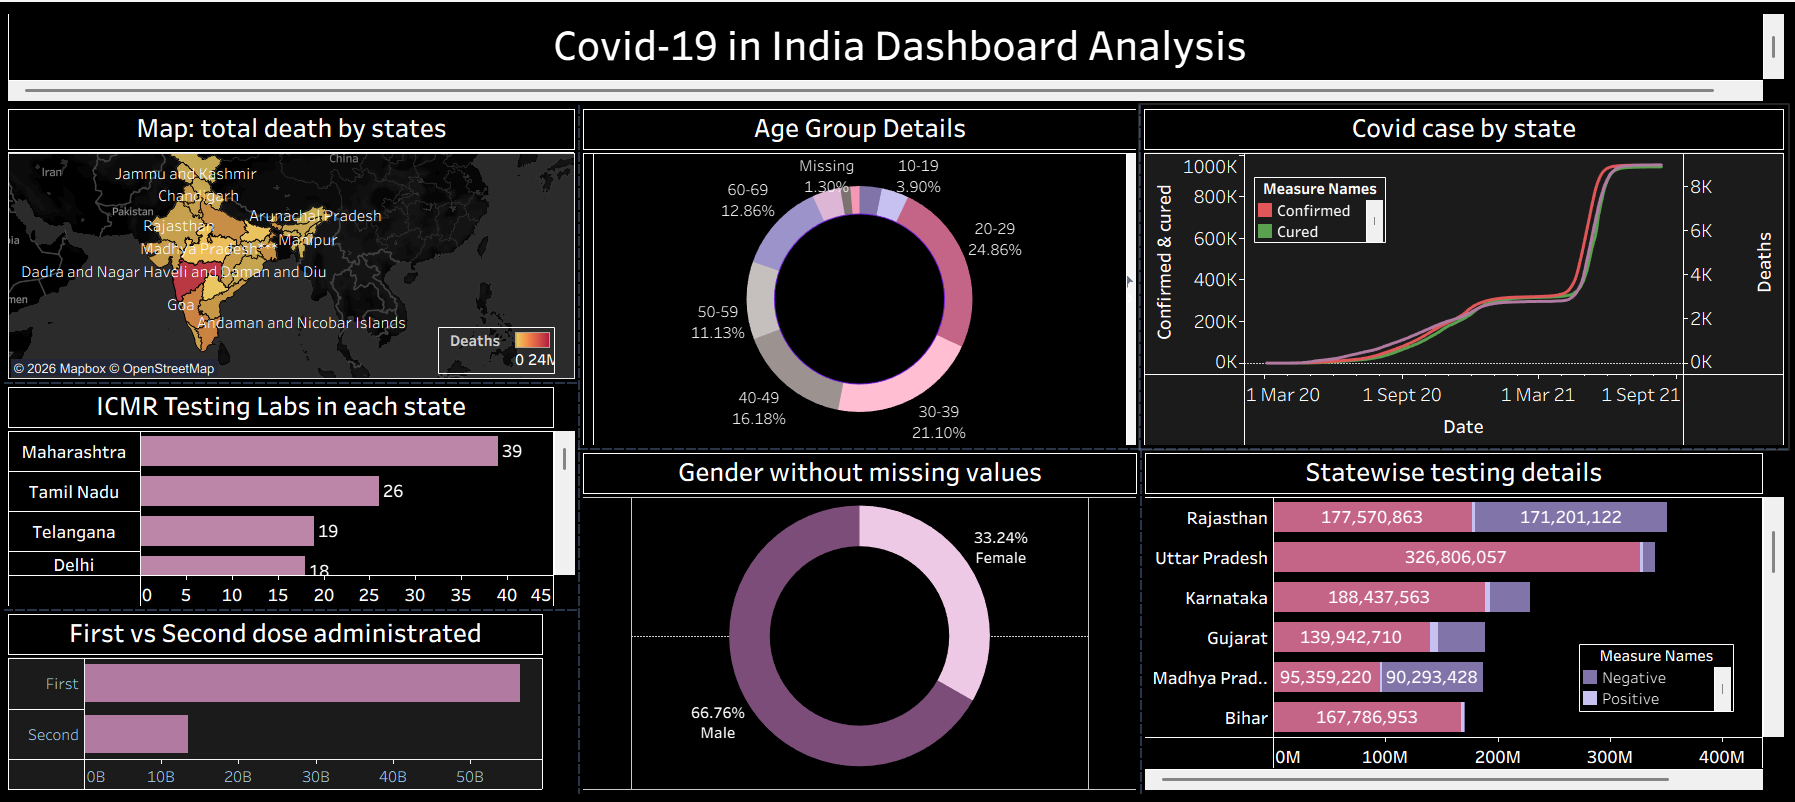

The page's visual inventory and layout, read from the dashboard file:
{"tool":"tableau","page":{"name":"Dashboard 1","canvas":[1800,1100],"ordinal":0},"visuals":[{"type":"worksheet","title":"title","mark":"Automatic","box":[8,8,1784,131]},{"type":"worksheet","title":"Map: total death by states","mark":"Automatic","box":[8,139,575,384.3]},{"type":"worksheet","title":"Age group details","mark":"Pie","rows":["Calculation_0162507990618115","Calculation_0162507990659077"],"box":[583,139,561.6,476.5]},{"type":"worksheet","title":"Covid case by state","mark":"Automatic","rows":["Deaths"],"cols":["Date"],"box":[1144.6,139,647.4,476.5]},{"type":"legend","title":"Covid case by state","param":"[federated.1bo4vzr0texj4n18ad109099q2t6].[:Measure Names]","box":[1253,189,132,90]},{"type":"legend","title":"Map: total death by states","param":"[federated.1bo4vzr0texj4n18ad109099q2t6].[sum:Deaths:qk]","box":[460,454,117,64]},{"type":"worksheet","title":"ICMR Testing Labs in each state","mark":"Automatic","rows":["state"],"cols":["lab"],"box":[8,523.3,575,314.8]},{"type":"worksheet","title":"Gender without missing values","mark":"Pie","rows":["Calculation_0162507996549127","Calculation_0162507996569609"],"box":[583,615.5,562,476.5]},{"type":"worksheet","title":"Statewise testing details","mark":"Automatic","rows":["State"],"box":[1145,615.5,647,476.5]},{"type":"worksheet","title":"First vs second dose","mark":"Automatic","box":[8,838.2,575,253.8]},{"type":"legend","title":"Statewise testing details","param":"[federated.0kgqe090zyda4m106w3aq1yqbgi6].[:Measure Names]","box":[1608,938,155,93]}]}

Visuals, with their boxes in screenshot pixels (x1, y1, x2, y2):
"title" worksheet: <box>310,1,1596,96</box>
"Map: total death by states" worksheet: <box>310,96,724,373</box>
"Age group details" worksheet (Pie marks): <box>724,96,1129,439</box>
"Covid case by state" worksheet: <box>1129,96,1596,439</box>
"Covid case by state" legend: <box>1207,132,1302,196</box>
"Map: total death by states" legend: <box>635,323,720,369</box>
"ICMR Testing Labs in each state" worksheet: <box>310,373,724,599</box>
"Gender without missing values" worksheet (Pie marks): <box>724,439,1129,782</box>
"Statewise testing details" worksheet: <box>1129,439,1596,782</box>
"First vs second dose" worksheet: <box>310,600,724,782</box>
"Statewise testing details" legend: <box>1463,671,1575,738</box>
